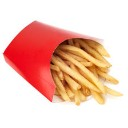frenchfries: (51, 41, 127, 105)
